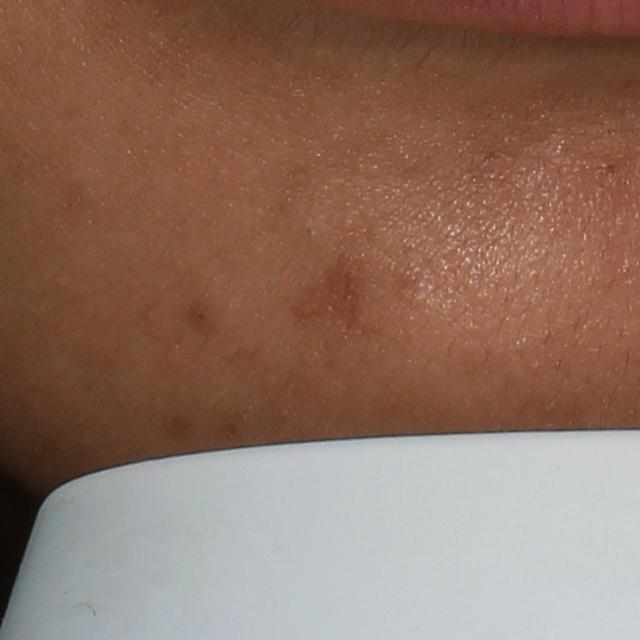comedo: (604, 160, 621, 179)
